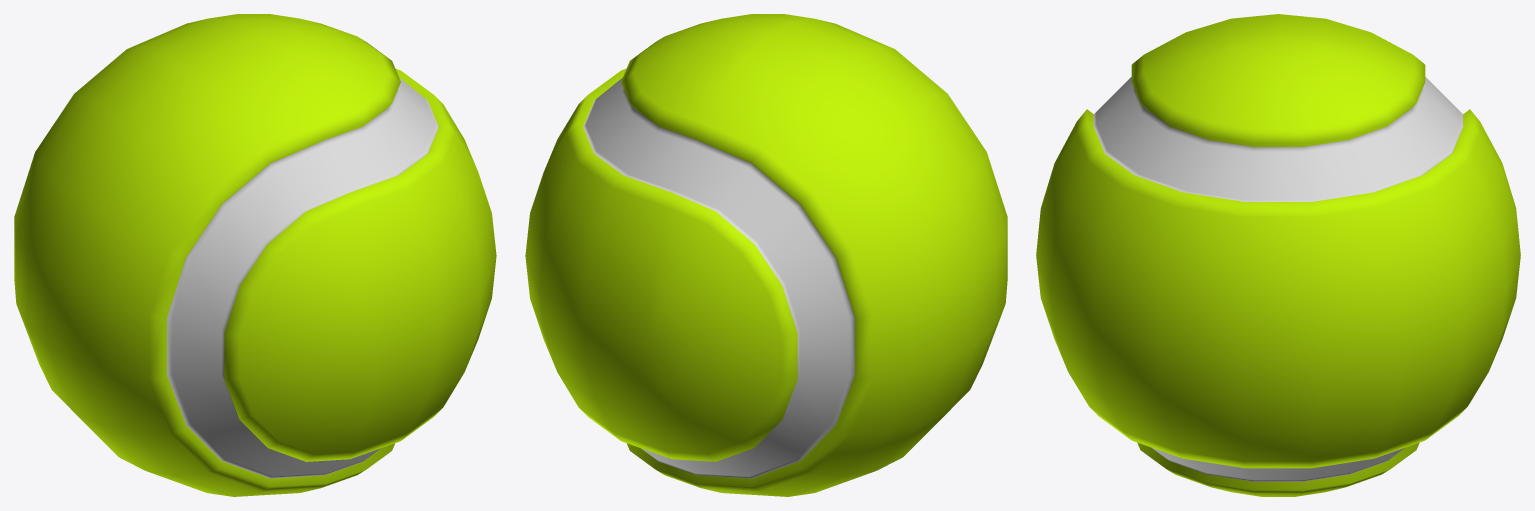
The model's file is PelotaTenis.fbx.
3 views of the same model, side by side, from view 1: azimuth 30°, elevation 25°; view 2: azimuth 150°, elevation 25°; view 3: azimuth 270°, elevation 25° (orthographic).
Parts seen in each view (by area): view 1: pelotaTenis; view 2: pelotaTenis; view 3: pelotaTenis.
Boxes of the visible parts, left/top/right/bottom form: pelotaTenis: left=14, top=14, right=496, bottom=496; pelotaTenis: left=525, top=14, right=1007, bottom=496; pelotaTenis: left=1036, top=14, right=1520, bottom=496.
Bounding box in the file's own units: 197 × 200 × 200.
